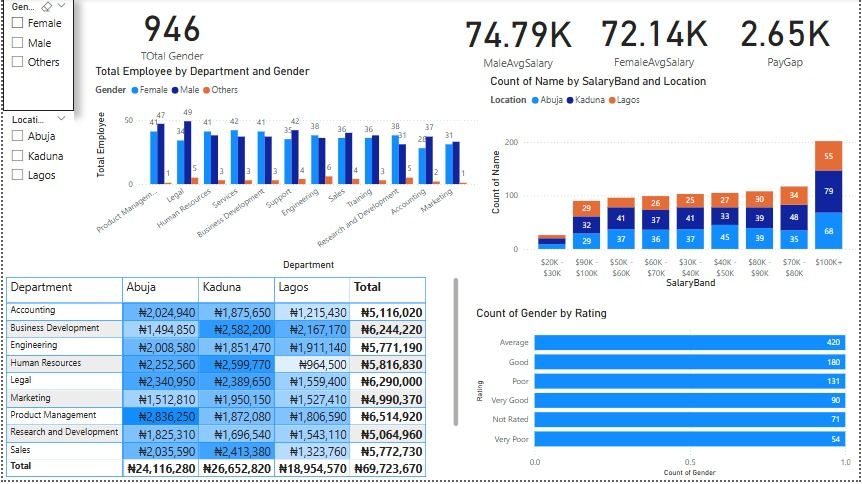

This screenshot's page, from the dashboard's own definition file:
{"tool":"powerbi","page":{"name":"Summary","canvas":[1280,720],"ordinal":0},"visuals":[{"type":"clusteredBarChart","fields":{"Category":["Palmoria Group emp-data 2.Rating"],"Y":["Palmoria Group emp-data 2.Gender"]},"box":[702.1,460.1,569.1,259.9],"z":0},{"type":"clusteredColumnChart","fields":{"Y":["Measures Table.Total Employee"],"Category":["Palmoria Group emp-data 2.Department"],"Series":["Palmoria Group emp-data 2.Gender"]},"box":[132.9,98.6,581.1,313.7],"z":1000},{"type":"slicer","fields":{"Values":["Palmoria Group emp-data 2.Gender"]},"box":[0,0,106.1,168.8],"z":2000},{"type":"card","fields":{"Values":["Measures Table.MaleAvgSalary"]},"box":[873.9,0,197.2,113.5],"z":3000},{"type":"card","fields":{"Values":["Measures Table.MaleAvgSalary"]},"box":[672.2,3,194.2,110.5],"z":4000},{"type":"card","fields":{"Values":["Measures Table.TOtal Gender"]},"box":[132.9,0,239,97.1],"z":5000},{"type":"card","fields":{"Values":["Measures Table.PayGap"]},"box":[1056.1,0,224.1,113.5],"z":6000},{"type":"pivotTable","fields":{"Rows":["Palmoria Group emp-data 2.Department"],"Columns":["Palmoria Group emp-data 2.Location"],"Values":["Measures Table.Total Salary"]},"box":[0,412.3,685.6,307.7],"z":8000},{"type":"columnChart","fields":{"Category":["Palmoria Group emp-data 2.SalaryBand"],"Y":["Palmoria Group emp-data 2.Name"],"Series":["Palmoria Group emp-data 2.Location"]},"box":[723,113.5,557.2,325.6],"z":8001},{"type":"slicer","fields":{"Values":["Palmoria Group emp-data 2.Location"]},"box":[0,168.8,106.1,179.3],"z":8002}]}

Visuals, with their boxes in screenshot pixels (x1, y1, x2, y2), scaled from the page's 1280x720 canvas onto the 862x484 screenshot:
clusteredBarChart - Palmoria Group emp-data 2.Rating x Palmoria Group emp-data 2.Gender: <bbox>473, 309, 856, 483</bbox>
clusteredColumnChart - Measures Table.Total Employee x Palmoria Group emp-data 2.Department: <bbox>89, 66, 481, 277</bbox>
slicer - Palmoria Group emp-data 2.Gender: <bbox>0, 0, 71, 113</bbox>
card - Measures Table.MaleAvgSalary: <bbox>589, 0, 721, 76</bbox>
card - Measures Table.MaleAvgSalary: <bbox>453, 2, 583, 76</bbox>
card - Measures Table.TOtal Gender: <bbox>89, 0, 250, 65</bbox>
card - Measures Table.PayGap: <bbox>711, 0, 861, 76</bbox>
pivotTable - Palmoria Group emp-data 2.Department x Palmoria Group emp-data 2.Location: <bbox>0, 277, 462, 483</bbox>
columnChart - Palmoria Group emp-data 2.SalaryBand x Palmoria Group emp-data 2.Name: <bbox>487, 76, 861, 295</bbox>
slicer - Palmoria Group emp-data 2.Location: <bbox>0, 113, 71, 234</bbox>
